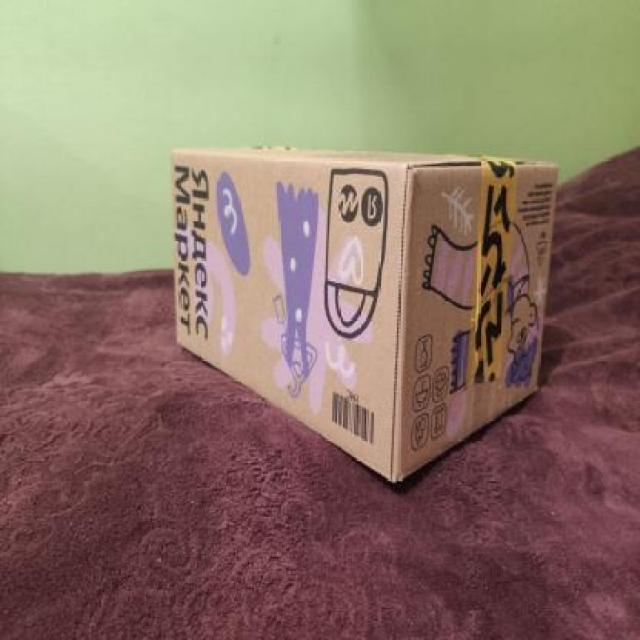box: (163, 132, 565, 488)
